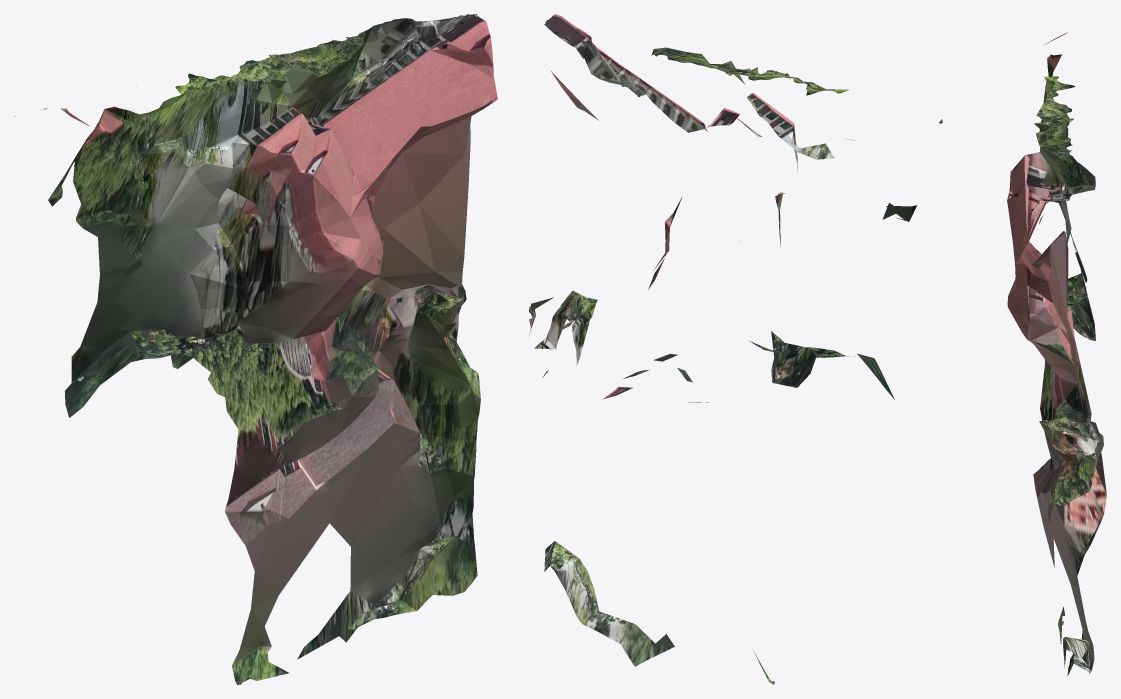
The model's file is Tile_+001_+000.glb.
3 renders of one model, left to right at view 1: azimuth 30°, elevation 25°; view 2: azimuth 150°, elevation 25°; view 3: azimuth 270°, elevation 25°, orthographic. The views are drawn at different scales.
Visible parts, largest first — view 1: Node; view 2: Node; view 3: Node.
Part boxes in pixels (left/top/right/bottom): Node: left=14, top=14, right=497, bottom=684; Node: left=529, top=14, right=942, bottom=684; Node: left=1007, top=32, right=1106, bottom=675.
Bounding box in the file's own units: 117 × 153 × 26.57.
1 material, 1 textured.
